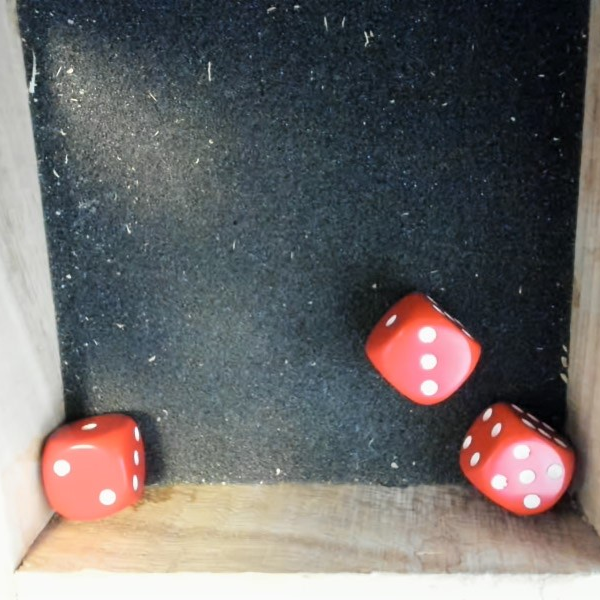red_die_pip2: (33, 405, 154, 527)
red_die_pip3: (346, 276, 496, 424)
red_die_pip5: (438, 385, 600, 541)
